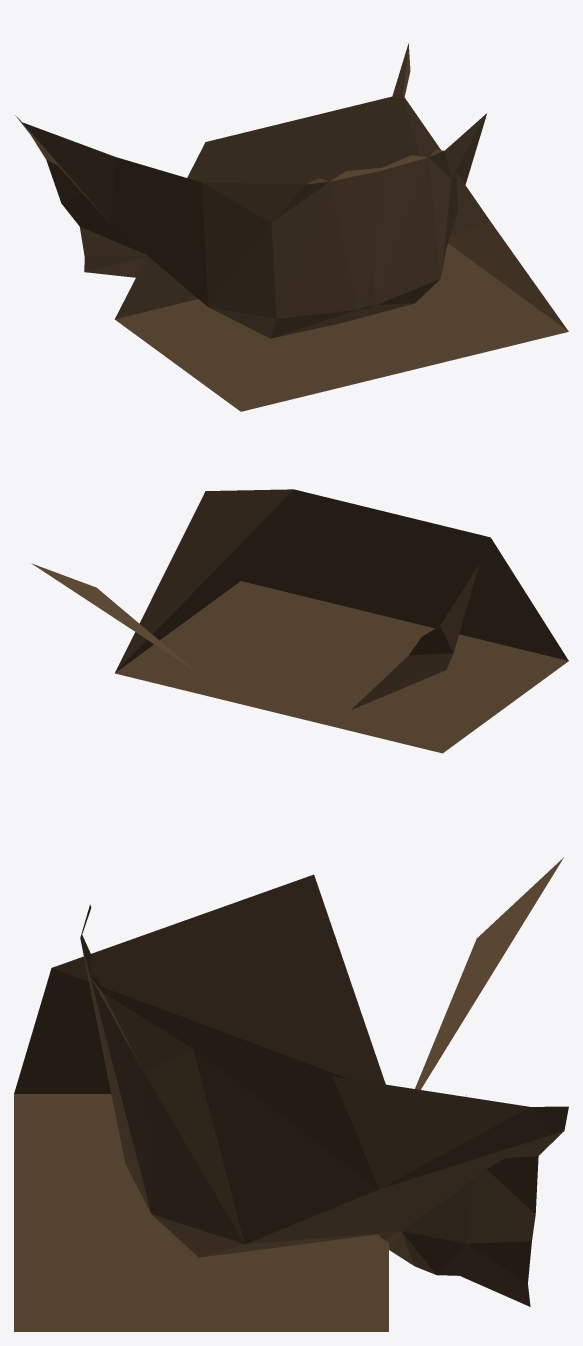
The model's file is beard.glb.
3 views of the same model, one above another, from view 1: azimuth 30°, elevation 25°; view 2: azimuth 150°, elevation 25°; view 3: azimuth 270°, elevation 25° (orthographic). The views are drawn at different scales.
Visible parts, largest first — view 1: Module_beard; view 2: Module_beard; view 3: Module_beard.
Part boxes in pixels (x1,y1,x2,y2): Module_beard: (15,43,568,411); Module_beard: (31,489,568,753); Module_beard: (14,857,568,1331).
Size of the model in its own units: 0.1337 by 0.0611 by 0.1036.
